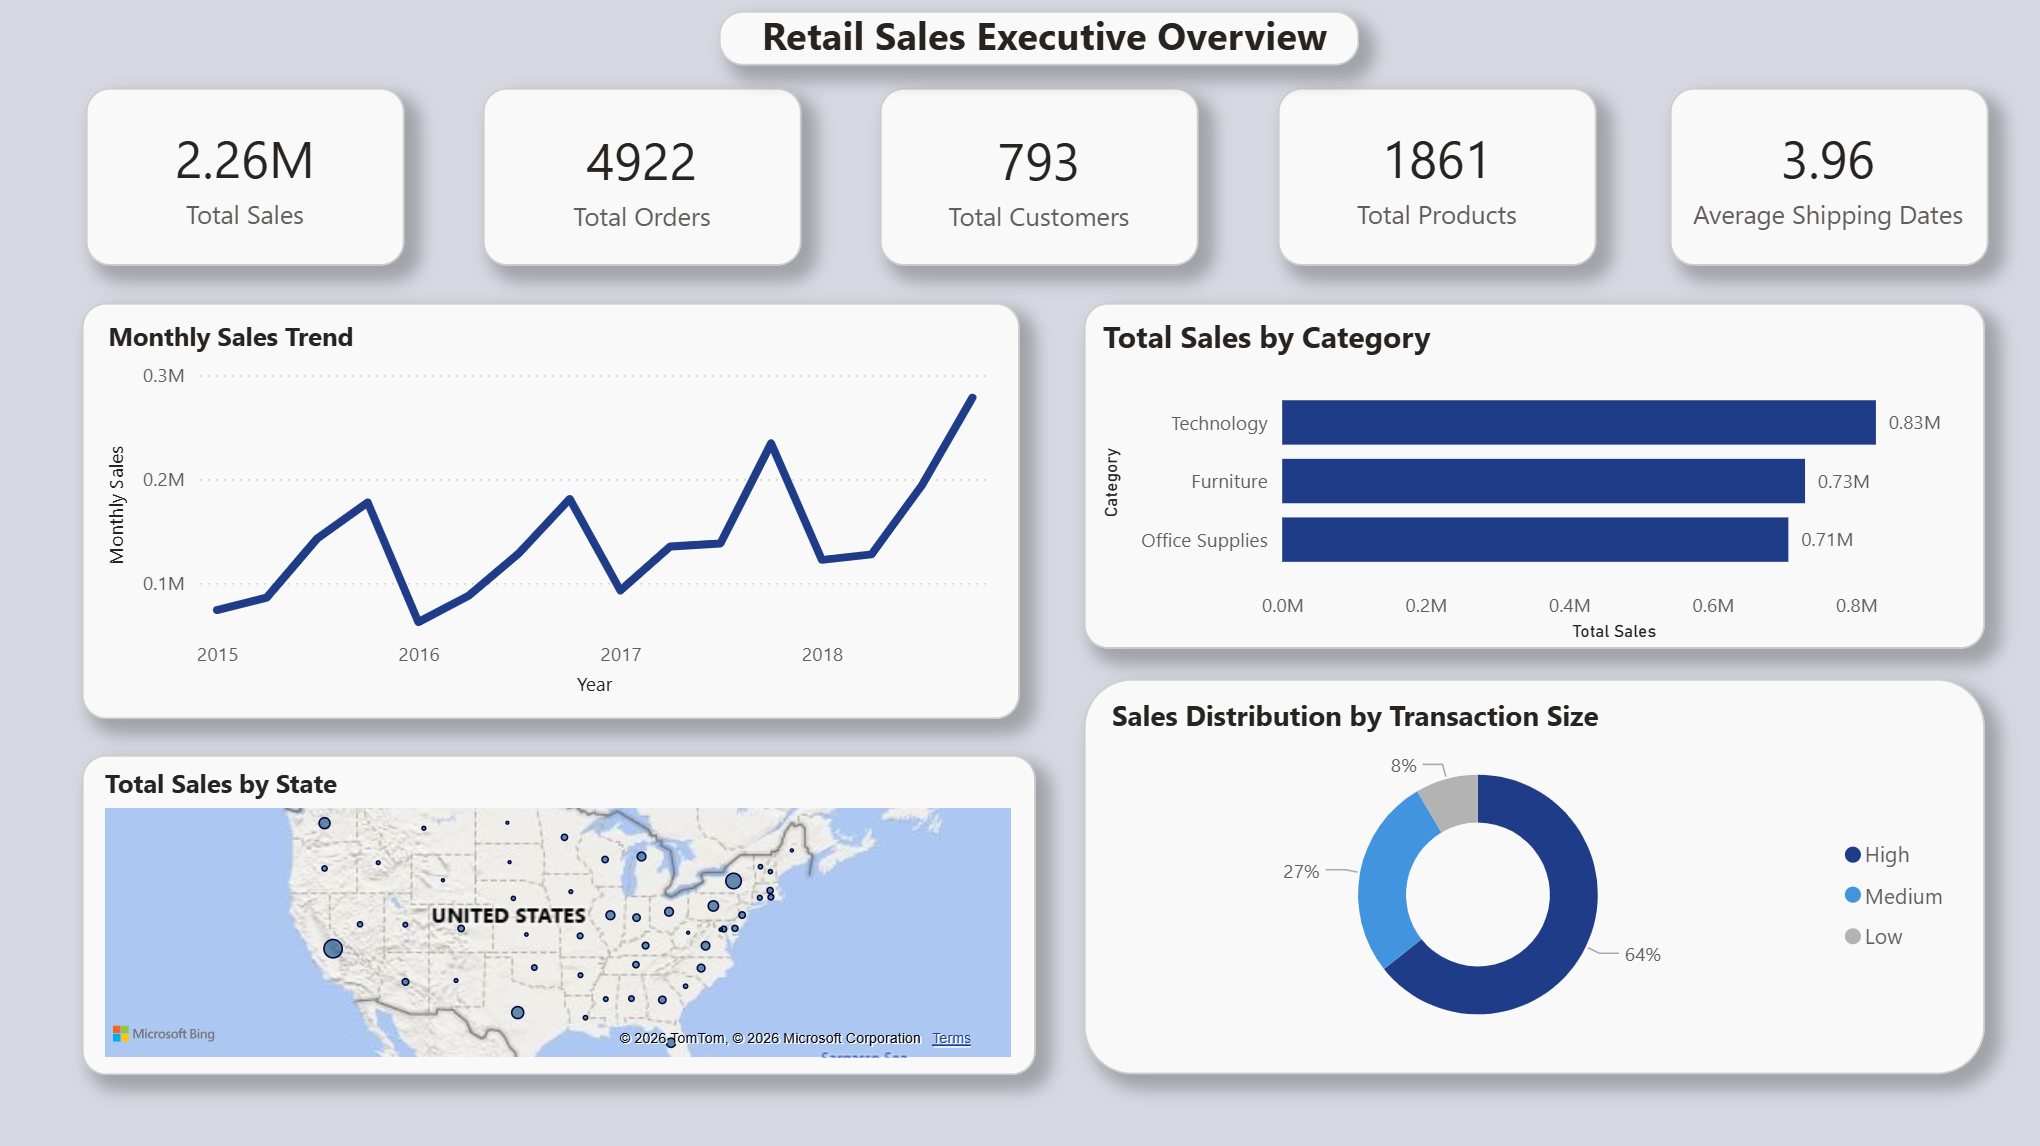

The dashboard page shown, as its layout file describes it:
{"tool":"powerbi","page":{"name":"Executive Overview","canvas":[1280,720],"ordinal":0},"visuals":[{"type":"shape","box":[0,0,1279.8,720],"z":0},{"type":"shape","box":[56.9,56.3,199.2,110.7],"z":1000},{"type":"shape","box":[304.9,56.3,199.2,110.7],"z":2000},{"type":"shape","box":[553,56.3,199,111],"z":3000},{"type":"shape","box":[801.6,56.3,199.2,110.7],"z":4000},{"type":"shape","box":[1046.6,56.3,199.2,110.7],"z":5000},{"type":"shape","box":[54.4,190.5,585.8,259.8],"z":6000},{"type":"shape","box":[680.4,190.5,562.9,215.9],"z":7000},{"type":"shape","box":[54.4,473.2,595.7,199.8],"z":8000},{"type":"shape","box":[680.4,425.6,562.9,247.4],"z":9000},{"type":"shape","box":[452.8,8,399.6,34],"z":10000},{"type":"textbox","box":[474.4,1.2,384.1,47.6],"z":11000},{"type":"card","fields":{"Values":["public dim_customers.Total Sales"]},"box":[63.7,65.6,184.9,90.3],"z":12000},{"type":"card","fields":{"Values":["public dim_customers.Total Orders"]},"box":[311.8,66.8,184.9,90.3],"z":13000},{"type":"card","fields":{"Values":["public dim_customers.Total Customers"]},"box":[559.8,66.8,184.9,90.3],"z":14000},{"type":"card","fields":{"Values":["public dim_customers.Total Products"]},"box":[808.5,65.6,184.9,90.3],"z":15000},{"type":"card","fields":{"Values":["public dim_customers.Average Shipping Dates"]},"box":[1053.4,65.6,184.9,90.3],"z":16000},{"type":"lineChart","title":"Monthly Sales Trend","fields":{"Y":["public dim_customers.Monthly Sales"],"Category":["public dim_dates.full_date.Variation.Date Hierarchy.Year","public dim_dates.full_date.Variation.Date Hierarchy.Quarter"]},"box":[63.7,198.6,567.2,244.3],"z":17000},{"type":"clusteredBarChart","title":"Total Sales by Category","fields":{"Category":["public dim_products.category"],"Y":["public dim_customers.Total Sales"]},"box":[687.2,198.6,551.1,207.8],"z":18000},{"type":"map","title":"Total Sales by State","fields":{"Size":["public dim_customers.Total Sales"],"Category":["public dim_locations.state"]},"box":[63.7,480,576.5,187.4],"z":19000},{"type":"donutChart","title":"Sales Distribution by Transaction Size","fields":{"Category":["public fact_sales.sales_category"],"Y":["public dim_customers.Total Sales"]},"box":[693.4,436.1,539.4,225.2],"z":20000}]}

Visuals, with their boxes in screenshot pixels (x1, y1, x2, y2), scaled from the page's 1280x720 canvas onto the 2040x1146 screenshot:
shape: {"x1": 0, "y1": 0, "x2": 2039, "y2": 1145}
shape: {"x1": 91, "y1": 90, "x2": 408, "y2": 266}
shape: {"x1": 486, "y1": 90, "x2": 803, "y2": 266}
shape: {"x1": 881, "y1": 90, "x2": 1198, "y2": 266}
shape: {"x1": 1278, "y1": 90, "x2": 1595, "y2": 266}
shape: {"x1": 1668, "y1": 90, "x2": 1985, "y2": 266}
shape: {"x1": 87, "y1": 303, "x2": 1020, "y2": 717}
shape: {"x1": 1084, "y1": 303, "x2": 1982, "y2": 647}
shape: {"x1": 87, "y1": 753, "x2": 1036, "y2": 1071}
shape: {"x1": 1084, "y1": 677, "x2": 1982, "y2": 1071}
shape: {"x1": 722, "y1": 13, "x2": 1359, "y2": 67}
textbox: {"x1": 756, "y1": 2, "x2": 1368, "y2": 78}
card - public dim_customers.Total Sales: {"x1": 102, "y1": 104, "x2": 396, "y2": 248}
card - public dim_customers.Total Orders: {"x1": 497, "y1": 106, "x2": 792, "y2": 250}
card - public dim_customers.Total Customers: {"x1": 892, "y1": 106, "x2": 1187, "y2": 250}
card - public dim_customers.Total Products: {"x1": 1289, "y1": 104, "x2": 1583, "y2": 248}
card - public dim_customers.Average Shipping Dates: {"x1": 1679, "y1": 104, "x2": 1974, "y2": 248}
"Monthly Sales Trend" lineChart: {"x1": 102, "y1": 316, "x2": 1005, "y2": 705}
"Total Sales by Category" clusteredBarChart: {"x1": 1095, "y1": 316, "x2": 1974, "y2": 647}
"Total Sales by State" map: {"x1": 102, "y1": 764, "x2": 1020, "y2": 1062}
"Sales Distribution by Transaction Size" donutChart: {"x1": 1105, "y1": 694, "x2": 1965, "y2": 1053}
